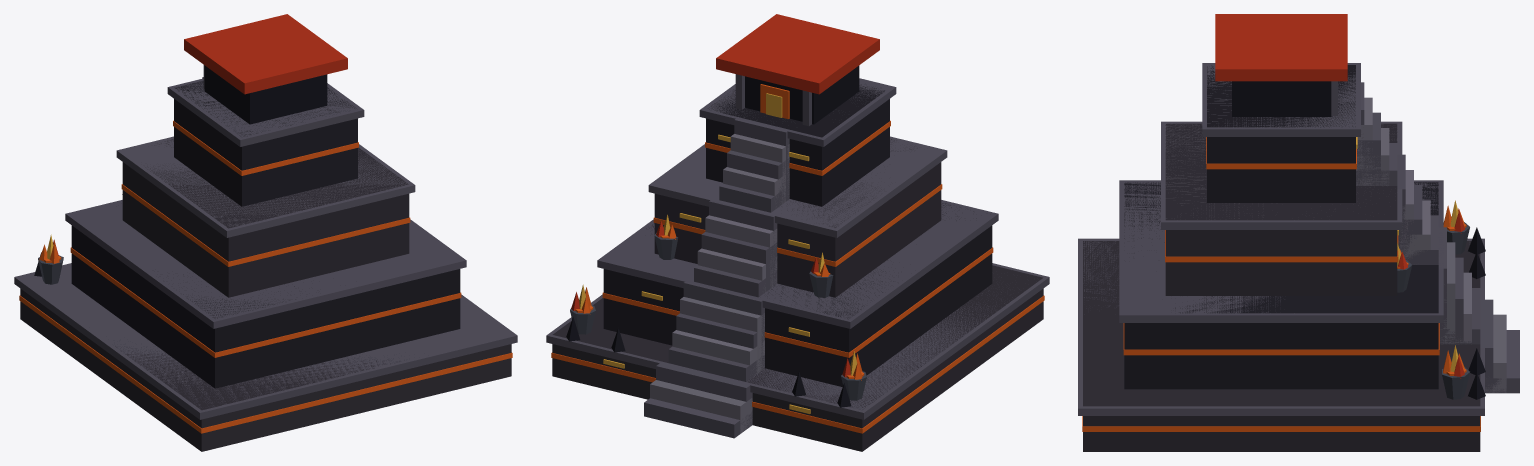
Rendered from Decor_Volcano_Temple.fbx.
3 renders of one model, left to right at view 1: azimuth 30°, elevation 25°; view 2: azimuth 150°, elevation 25°; view 3: azimuth 270°, elevation 25°, orthographic. The views are drawn at different scales.
Parts seen in each view (by area): view 1: Temple_Body; view 2: Temple_Body; view 3: Temple_Body.
Boxes of the visible parts, x1,y1,x2,y2 form: Temple_Body: (14, 14, 517, 451); Temple_Body: (546, 14, 1049, 451); Temple_Body: (1078, 14, 1519, 451).
Bounding box in the file's own units: 24 × 21.6 × 26.4.
